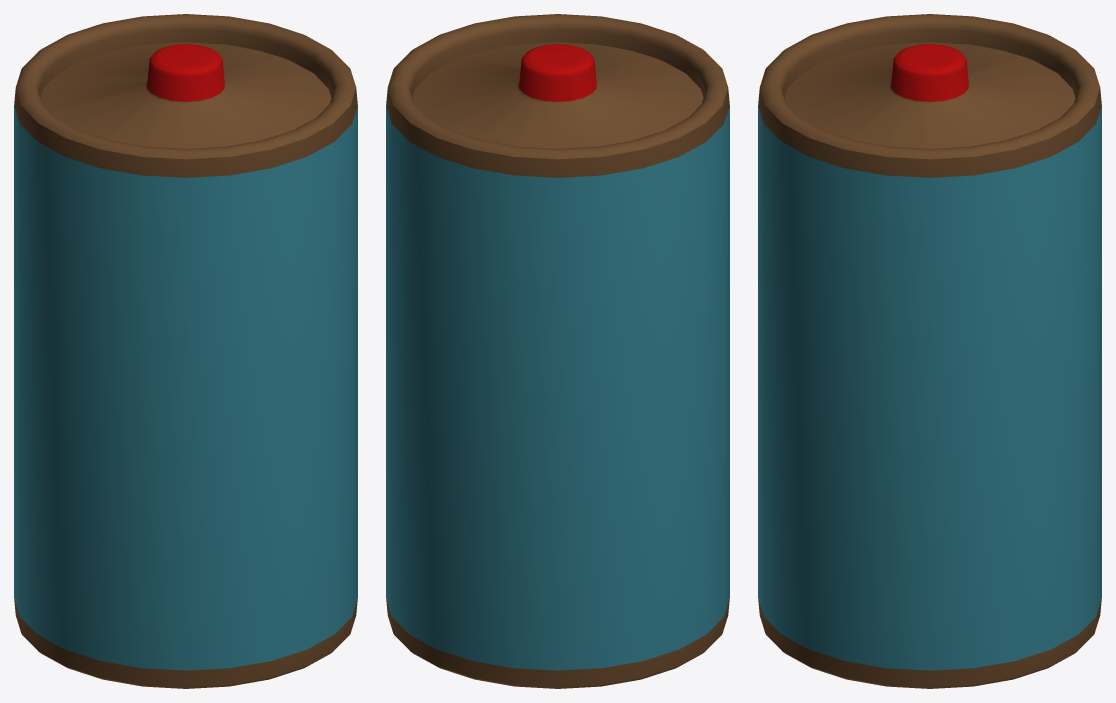
The model's file is battery008.fbx.
The picture shows the model from 3 angles, left to right: view 1: azimuth 30°, elevation 25°; view 2: azimuth 150°, elevation 25°; view 3: azimuth 270°, elevation 25°; orthographic projection.
Visible parts, largest first — view 1: battery008_LOD0; view 2: battery008_LOD0; view 3: battery008_LOD0.
Part boxes in pixels (bbox=[...]): battery008_LOD0: bbox=[14, 14, 357, 688]; battery008_LOD0: bbox=[386, 14, 729, 688]; battery008_LOD0: bbox=[758, 14, 1101, 688].
Size of what is drawn, in the model's own units: 1.42 by 2.56 by 1.42.
